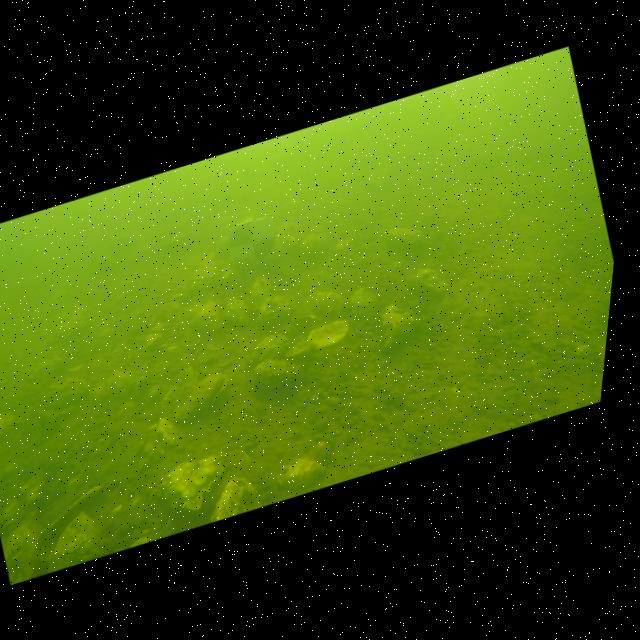Oyster-Closed: (159, 449, 229, 513), (172, 368, 225, 421), (211, 476, 261, 521), (43, 377, 92, 410), (381, 304, 418, 347), (277, 457, 326, 488), (252, 358, 300, 388), (249, 334, 292, 363), (187, 300, 222, 328), (257, 295, 290, 323), (107, 370, 148, 392), (412, 268, 448, 292), (385, 226, 424, 248), (315, 290, 350, 314), (350, 287, 375, 316), (224, 297, 249, 325), (250, 276, 272, 305)
Oyster-Indeterminate: (47, 509, 115, 573), (4, 510, 42, 584), (158, 364, 199, 412), (24, 357, 65, 379)
Oyster-Open: (35, 484, 106, 545), (307, 320, 348, 348)
